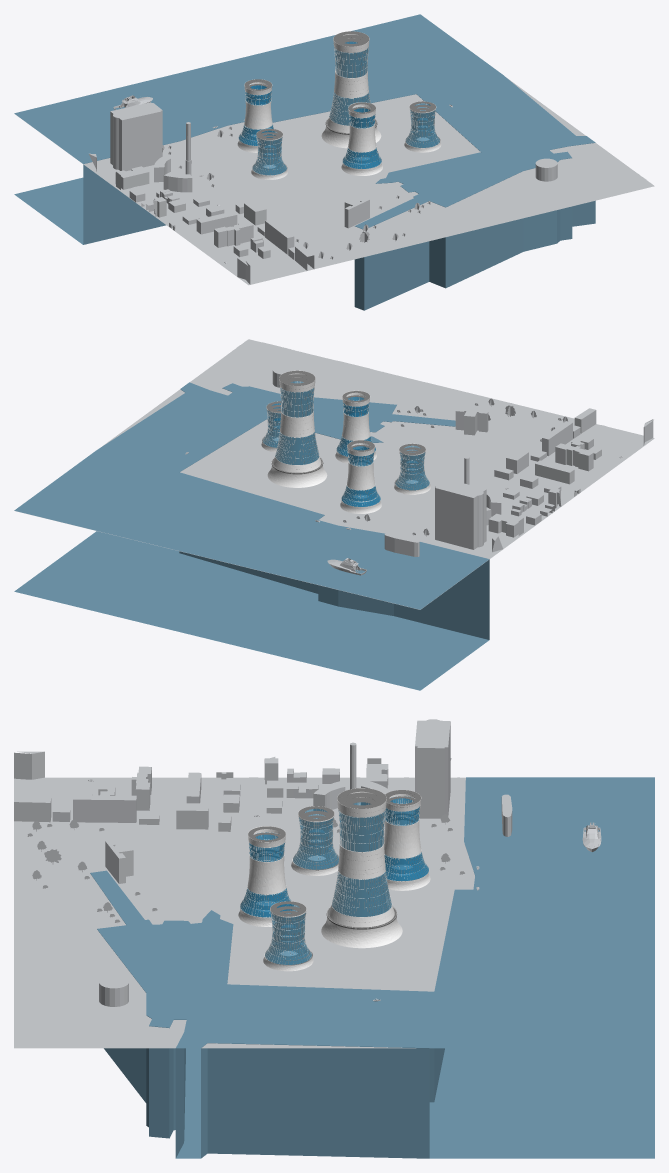
Rendered from london-2.glb.
3 renders of one model, top to bottom at view 1: azimuth 30°, elevation 25°; view 2: azimuth 150°, elevation 25°; view 3: azimuth 270°, elevation 25°, orthographic. The views are drawn at different scales.
Parts seen in each view (by area): view 1: water, context:DefaultMaterial, project:Default Floor, project:Glass, project:Glass walls, project:Aluminum; view 2: water, context:DefaultMaterial, project:Default Floor, project:Glass, project:Glass walls, project:Aluminum; view 3: water, context:DefaultMaterial, project:Default Floor, project:Glass, project:Glass walls, project:Aluminum.
Boxes of the visible parts, bbox=[...] form: water: bbox=[14, 14, 595, 310]; context:DefaultMaterial: bbox=[16, 78, 654, 285]; project:Default Floor: bbox=[239, 31, 440, 175]; project:Glass: bbox=[238, 42, 439, 174]; project:Glass walls: bbox=[237, 33, 441, 179]; project:Aluminum: bbox=[238, 42, 440, 175]; water: bbox=[14, 382, 489, 690]; context:DefaultMaterial: bbox=[14, 339, 654, 609]; project:Default Floor: bbox=[262, 370, 429, 506]; project:Glass: bbox=[263, 381, 429, 506]; project:Glass walls: bbox=[261, 370, 430, 513]; project:Aluminum: bbox=[262, 382, 429, 506]; water: bbox=[90, 777, 654, 1158]; context:DefaultMaterial: bbox=[14, 719, 512, 1048]; project:Default Floor: bbox=[241, 788, 427, 965]; project:Glass: bbox=[240, 796, 428, 964]; project:Glass walls: bbox=[238, 788, 430, 971]; project:Aluminum: bbox=[240, 796, 429, 964].
Bounding box in the file's own units: 480 × 201 × 480.
